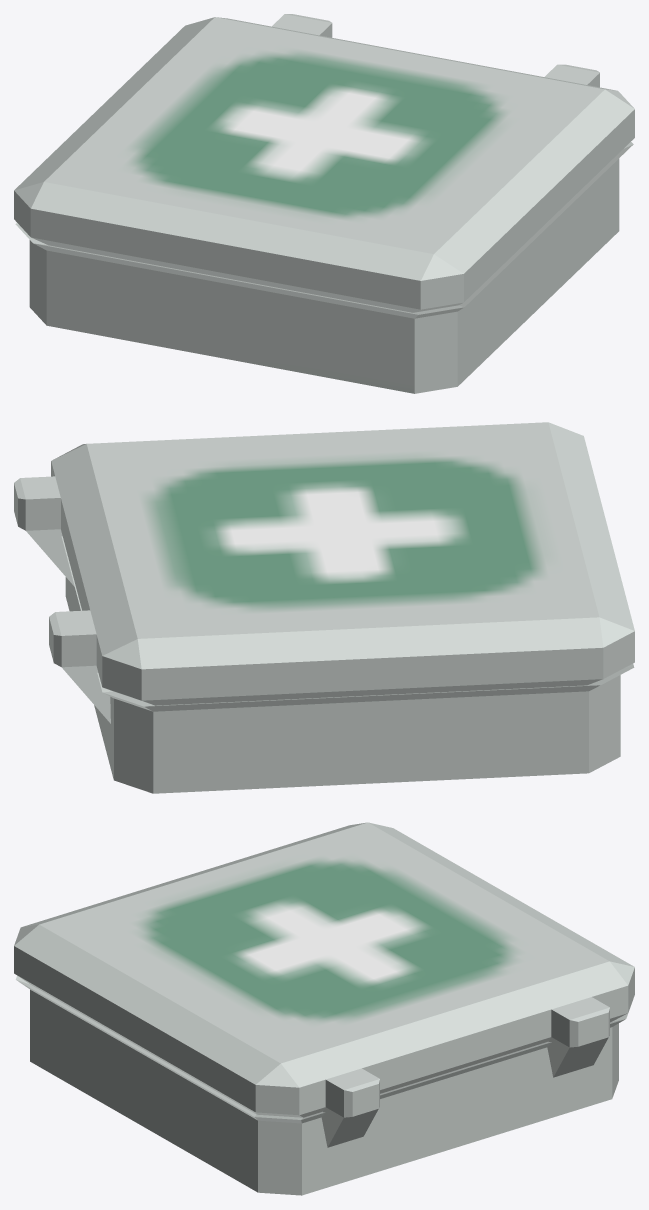
The model's file is Health Pack.fbx.
3 renders of one model, top to bottom at view 1: azimuth 30°, elevation 25°; view 2: azimuth 150°, elevation 25°; view 3: azimuth 270°, elevation 25°, orthographic. The views are drawn at different scales.
Visible parts, largest first — view 1: First Aid Kit; view 2: First Aid Kit; view 3: First Aid Kit.
Part boxes in pixels (<box>): First Aid Kit: <box>14,14,634,393</box>; First Aid Kit: <box>14,422,634,793</box>; First Aid Kit: <box>14,822,634,1195</box>.
Bounding box in the file's own units: 298 × 69.82 × 295.
